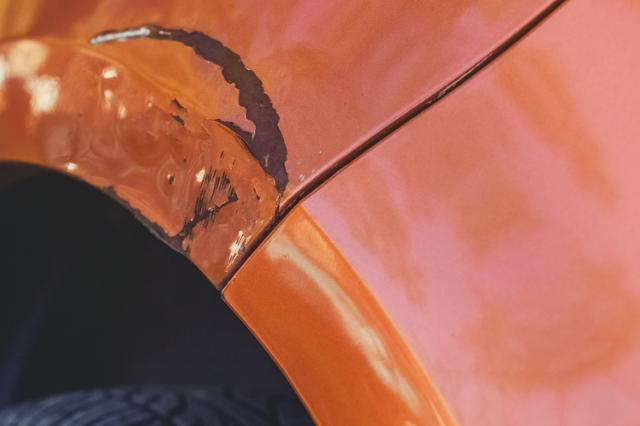Fender: (0, 0, 461, 295)
